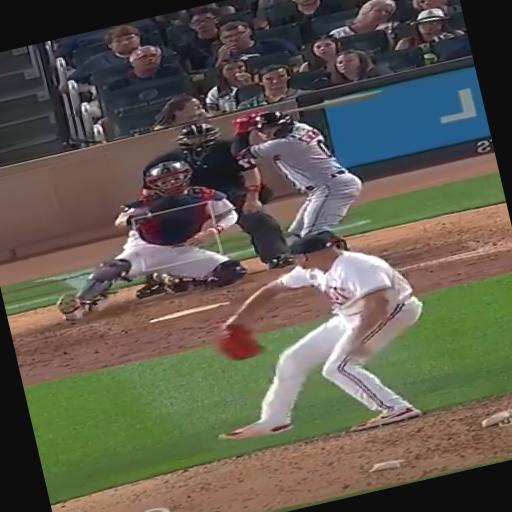bat: (283, 91, 378, 114)
